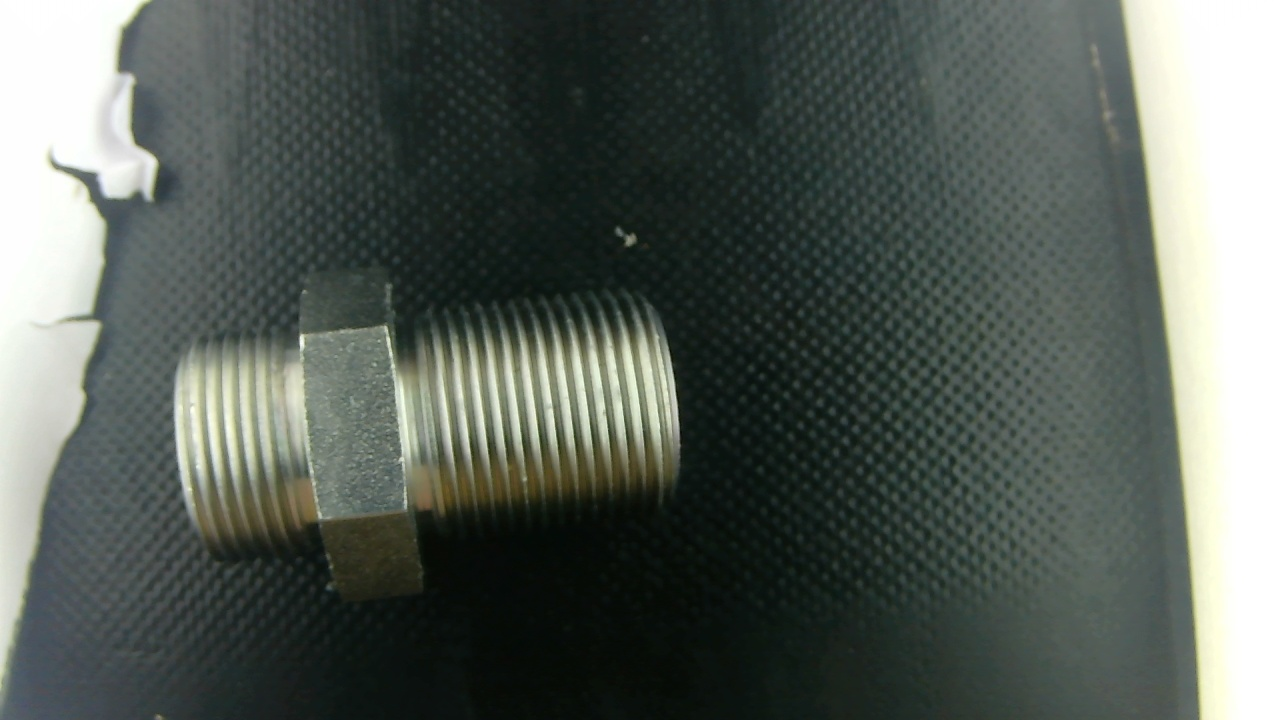okay_adapter: (174, 270, 680, 600)
